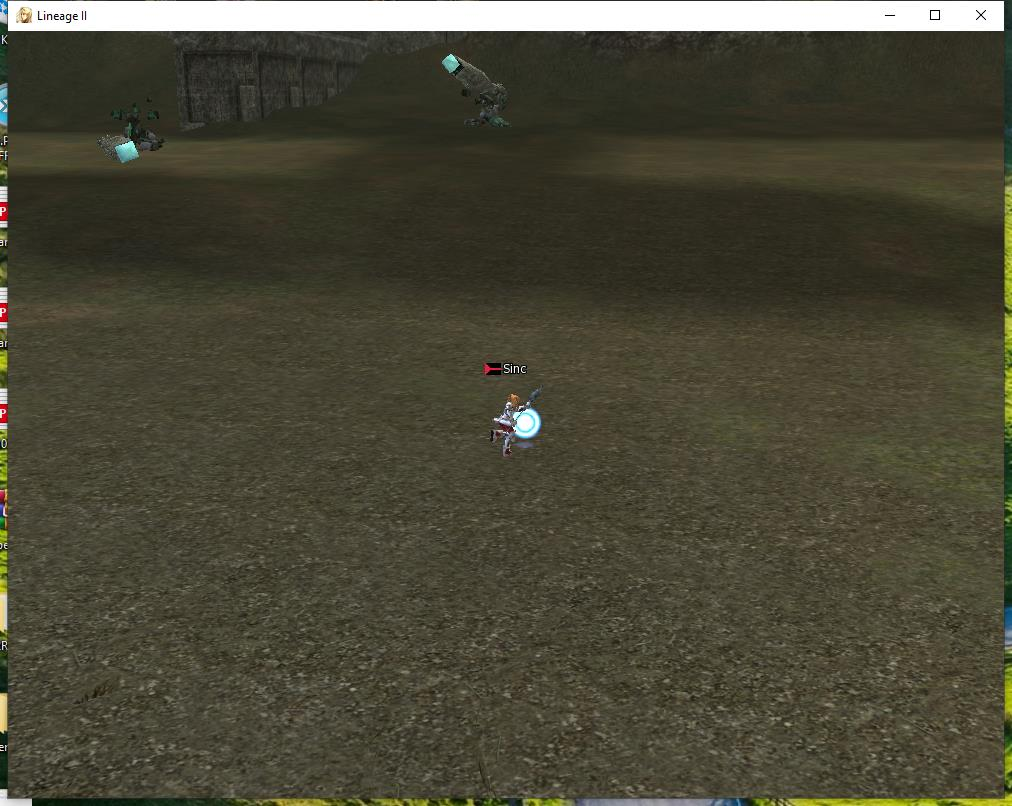monster: (436, 51, 523, 137), (95, 81, 174, 172)
